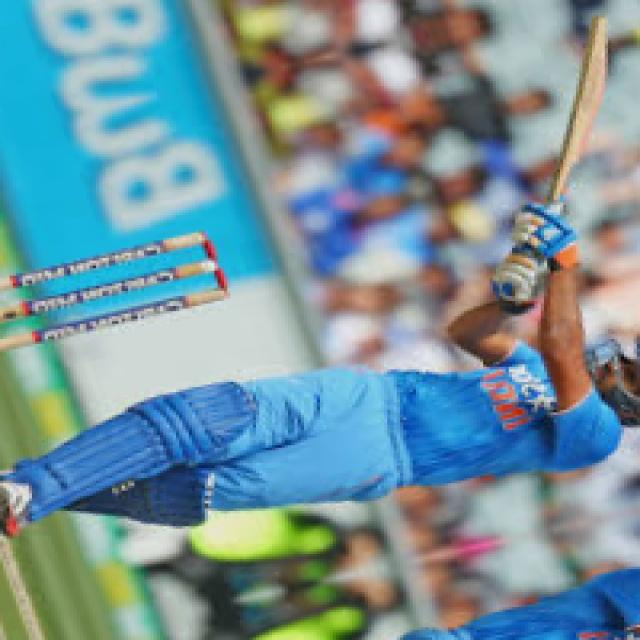toe: (579, 6, 621, 44)
